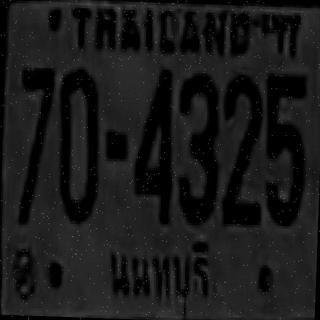N00: (55, 67, 100, 220)
N02: (220, 74, 262, 201), (220, 101, 262, 222)
N03: (174, 71, 218, 222)
N04: (131, 66, 174, 219)
N05: (261, 70, 306, 224), (264, 70, 306, 162)
P37: (98, 232, 219, 318)
